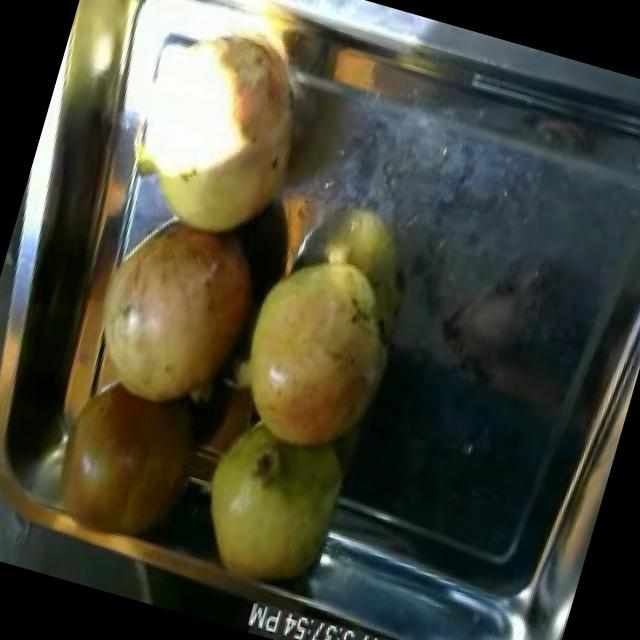fruit: (94, 0, 335, 264), (62, 190, 278, 436), (212, 231, 419, 478), (168, 396, 365, 608), (28, 360, 222, 570)
